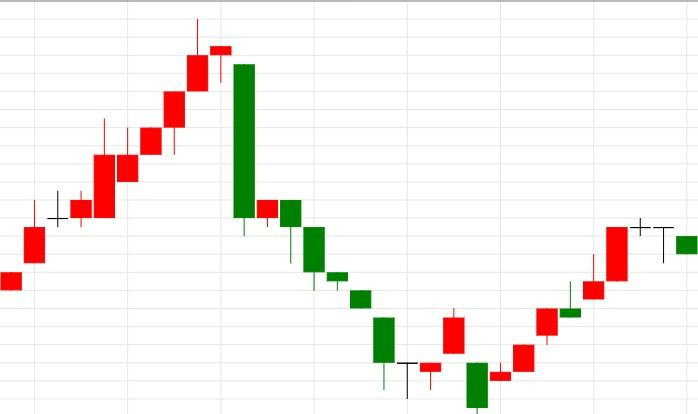three_white_soldiers_rise: (443, 308, 559, 414)
